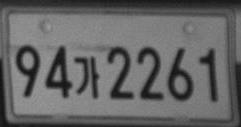1: (198, 48, 225, 102)
2: (107, 45, 134, 99), (136, 46, 163, 99)
4: (44, 44, 73, 98)
6: (167, 47, 194, 101)
9: (14, 44, 40, 97)
가: (74, 55, 100, 99)
